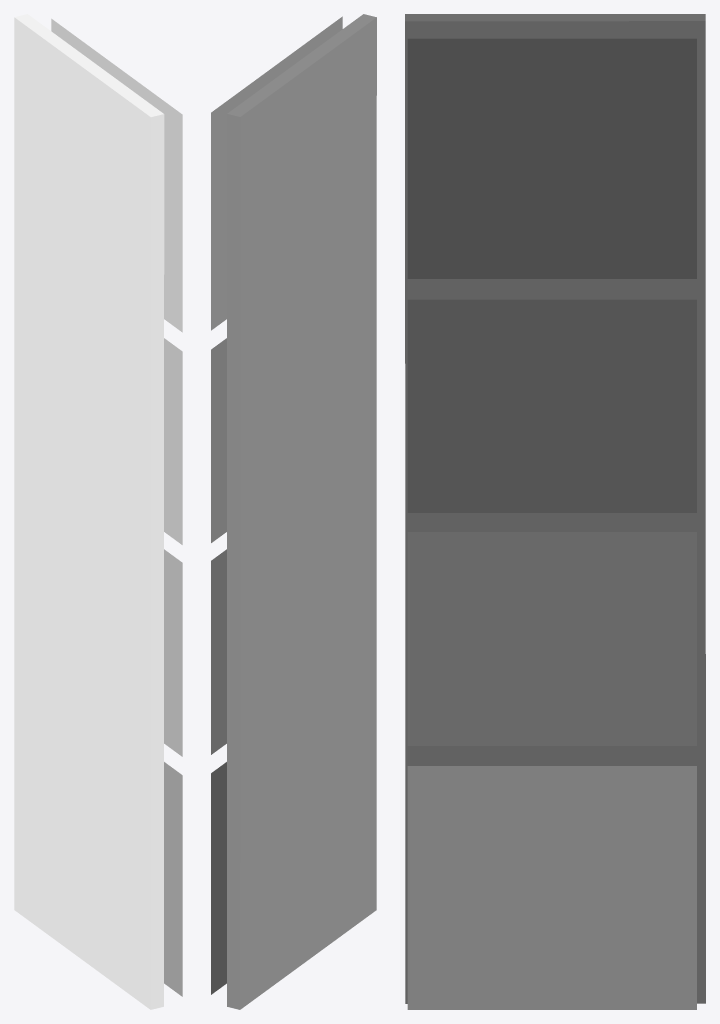
Rendered from Window_6db85f3e.obj.
3 renders of one model, left to right at view 1: azimuth 30°, elevation 25°; view 2: azimuth 150°, elevation 25°; view 3: azimuth 270°, elevation 25°, orthographic. The views are drawn at different scales.
Visible parts, largest first — view 1: FP229:polySurface19_4f0c93a9, QuadDecalSpawnPlane_(5)_ec3e9830, QuadDecalSpawnPlane_(7)_f0b8cf41, QuadDecalSpawnPlane_(6)_90c52331, QuadDecalSpawnPlane_(4)_7e2d1529; view 2: FP229:polySurface19_4f0c93a9, QuadDecalSpawnPlane_(5)_ec3e9830, QuadDecalSpawnPlane_(7)_f0b8cf41, QuadDecalSpawnPlane_(6)_90c52331, QuadDecalSpawnPlane_(4)_7e2d1529; view 3: QuadDecalSpawnPlane_(7)_f0b8cf41, QuadDecalSpawnPlane_(5)_ec3e9830, QuadDecalSpawnPlane_(6)_90c52331, QuadDecalSpawnPlane_(4)_7e2d1529, FP229:polySurface19_4f0c93a9.
Part boxes in pixels (<box>): FP229:polySurface19_4f0c93a9: <box>14,14,164,1009</box>; QuadDecalSpawnPlane_(5)_ec3e9830: <box>51,18,182,332</box>; QuadDecalSpawnPlane_(7)_f0b8cf41: <box>164,762,182,996</box>; QuadDecalSpawnPlane_(6)_90c52331: <box>164,549,182,756</box>; QuadDecalSpawnPlane_(4)_7e2d1529: <box>164,338,182,544</box>; FP229:polySurface19_4f0c93a9: <box>227,14,376,1009</box>; QuadDecalSpawnPlane_(5)_ec3e9830: <box>211,16,342,330</box>; QuadDecalSpawnPlane_(7)_f0b8cf41: <box>211,762,226,994</box>; QuadDecalSpawnPlane_(6)_90c52331: <box>211,549,226,754</box>; QuadDecalSpawnPlane_(4)_7e2d1529: <box>211,338,226,542</box>; QuadDecalSpawnPlane_(7)_f0b8cf41: <box>407,766,696,1009</box>; QuadDecalSpawnPlane_(5)_ec3e9830: <box>407,38,696,278</box>; QuadDecalSpawnPlane_(6)_90c52331: <box>407,532,696,745</box>; QuadDecalSpawnPlane_(4)_7e2d1529: <box>407,299,696,512</box>; FP229:polySurface19_4f0c93a9: <box>405,14,705,1003</box>.
Bounding box in the file's own units: 0.0751 × 1.94 × 0.5385.
